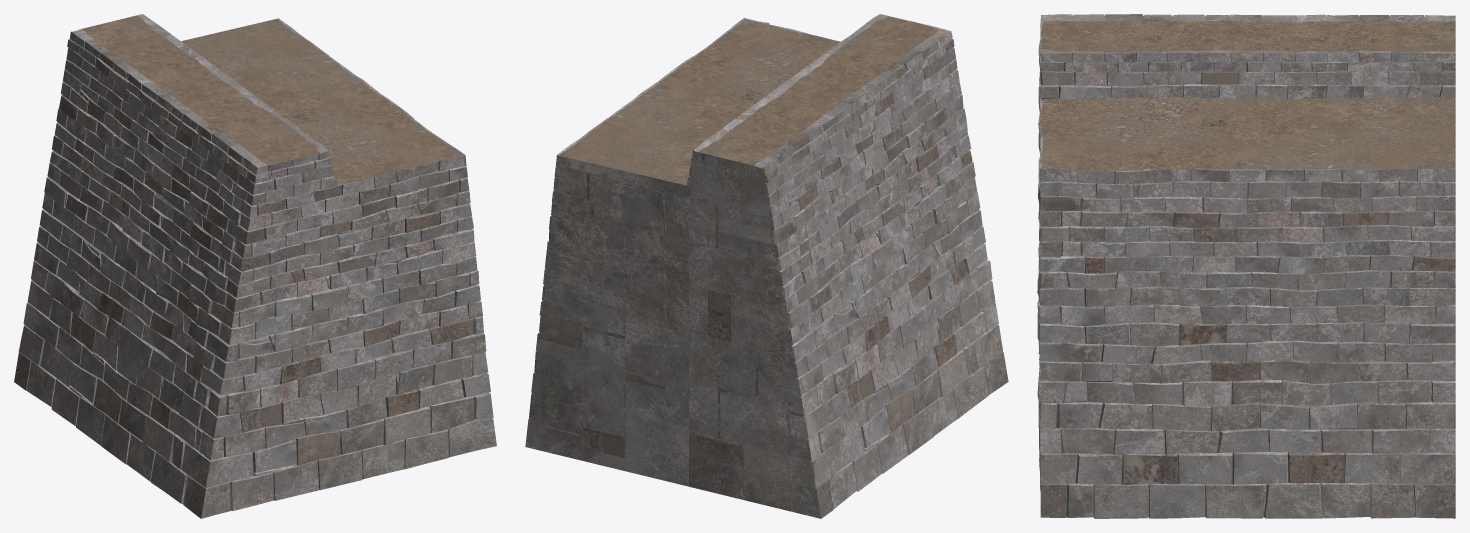
The model's file is SM_Outer_Castle04a.fbx.
3 renders of one model, left to right at view 1: azimuth 30°, elevation 25°; view 2: azimuth 150°, elevation 25°; view 3: azimuth 270°, elevation 25°, orthographic. The views are drawn at different scales.
Visible parts, largest first — view 1: SM_Outer_Castle04a; view 2: SM_Outer_Castle04a; view 3: SM_Outer_Castle04a.
Boxes of the visible parts, x1,y1,x2,y2 form: SM_Outer_Castle04a: (14,14,496,518); SM_Outer_Castle04a: (525,14,1008,518); SM_Outer_Castle04a: (1037,14,1455,518).
Size of the model in its own units: 367 by 403 by 399.
Materials: 2 (2 with a texture image).
